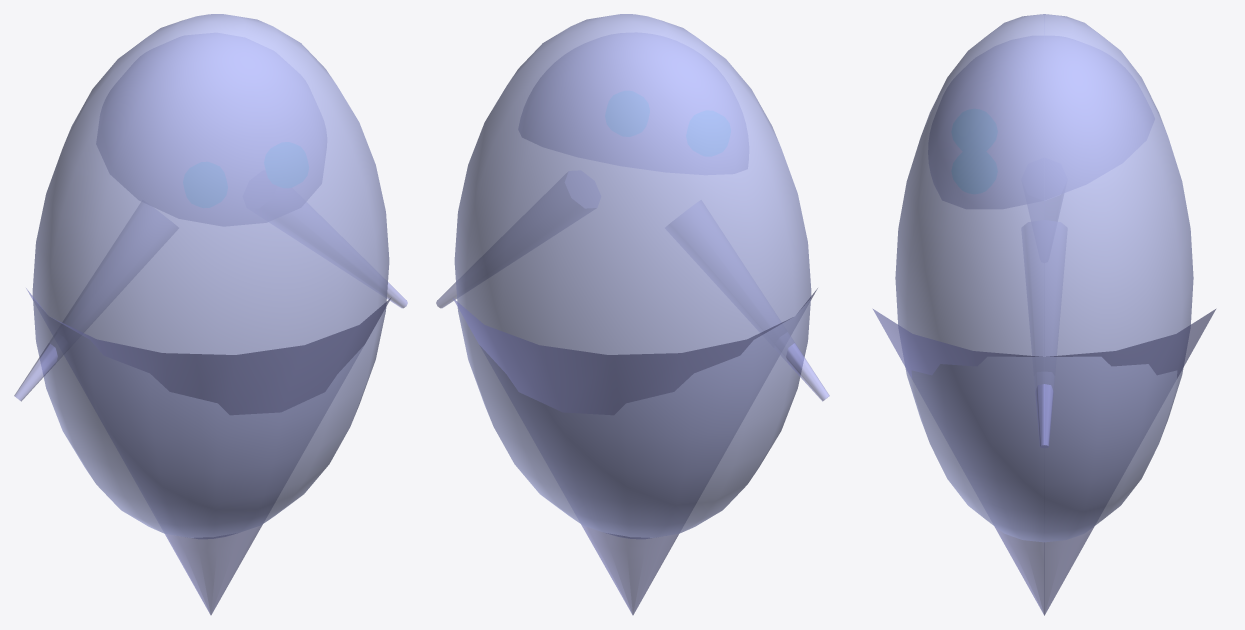
File: wraith.glb
3 renders of one model, left to right at view 1: azimuth 30°, elevation 25°; view 2: azimuth 150°, elevation 25°; view 3: azimuth 270°, elevation 25°, orthographic.
Bounding box in the file's own units: 0.9677 × 1.4 × 0.8.
